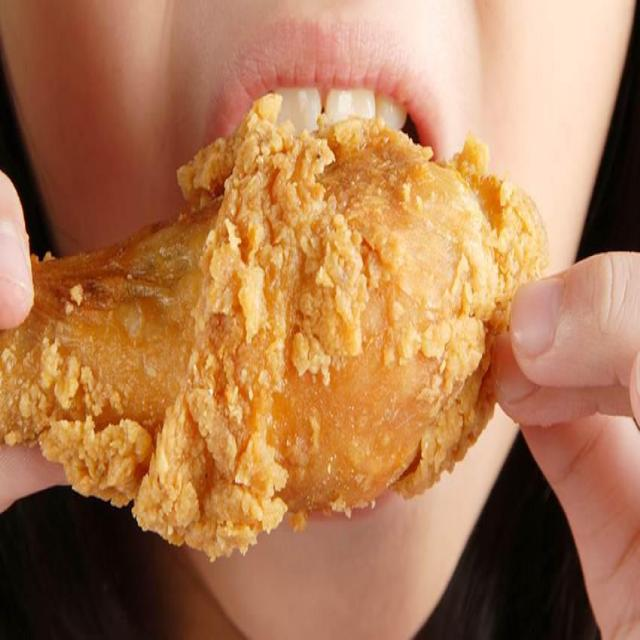Frango: (0, 115, 504, 522)
